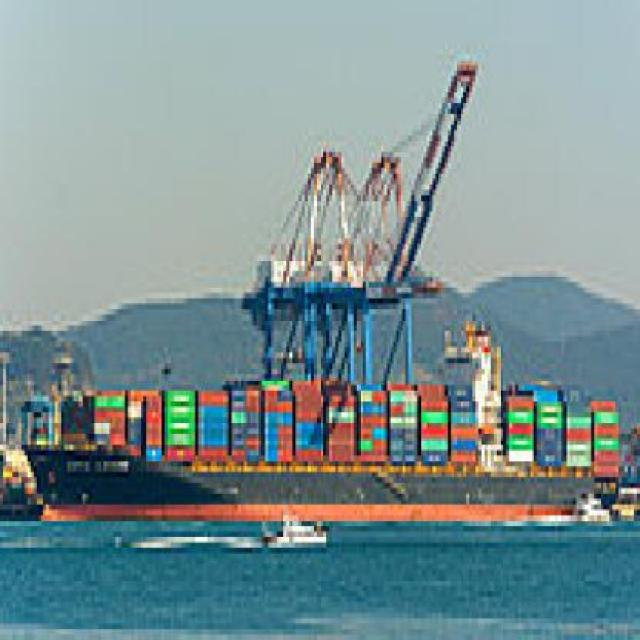container: (20, 304, 626, 538)
